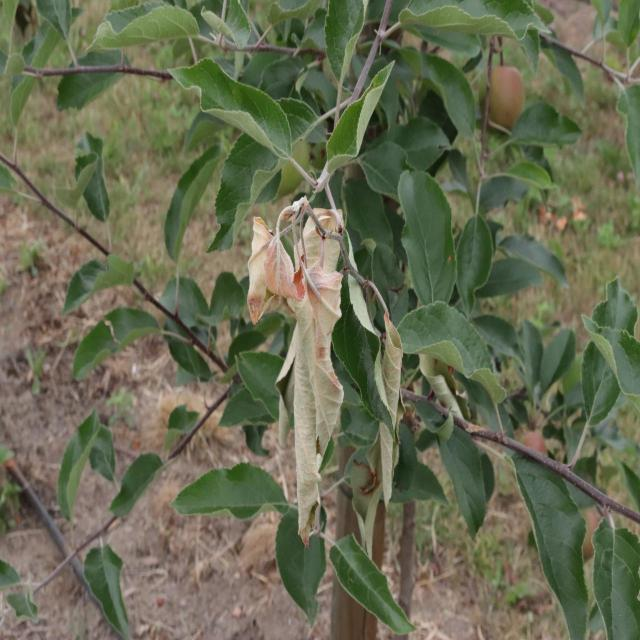-FireBlight-: (236, 205, 346, 530)
